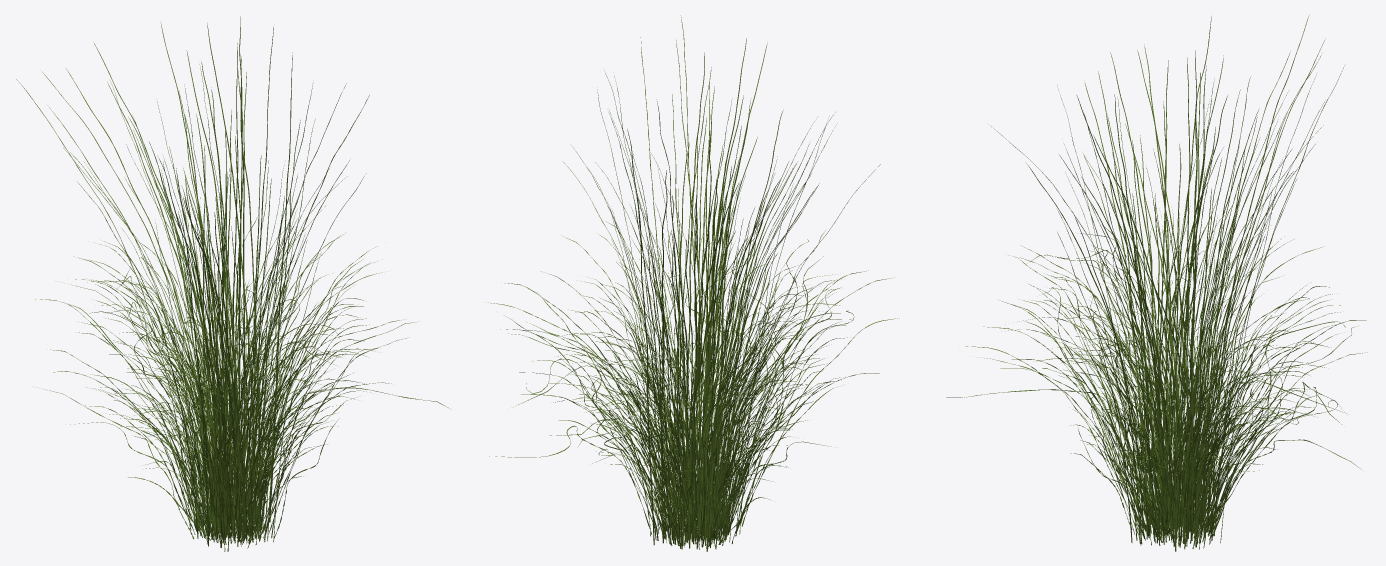
The model's file is planet_grass.glb.
3 renders of one model, left to right at view 1: azimuth 30°, elevation 25°; view 2: azimuth 150°, elevation 25°; view 3: azimuth 270°, elevation 25°, orthographic.
Visible parts, largest first — view 1: bq_Grass_Panicum-virgatum_E_spring; view 2: bq_Grass_Panicum-virgatum_E_spring; view 3: bq_Grass_Panicum-virgatum_E_spring.
Boxes of the visible parts, x1,y1,x2,y2 form: bq_Grass_Panicum-virgatum_E_spring: [16, 16, 448, 551]; bq_Grass_Panicum-virgatum_E_spring: [488, 15, 899, 551]; bq_Grass_Panicum-virgatum_E_spring: [946, 15, 1367, 551].
Bounding box in the file's own units: 1.32 × 1.71 × 1.42.
Materials: 1 (1 with a texture image).
